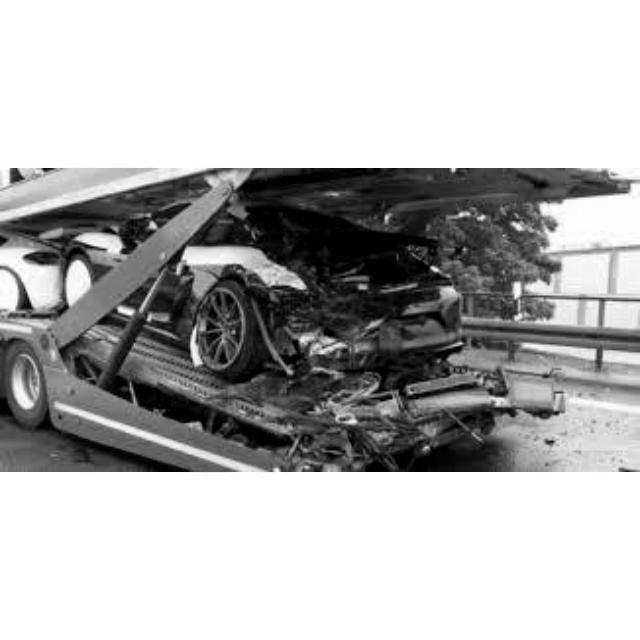rear-bumper-dent: (301, 322, 440, 373)
